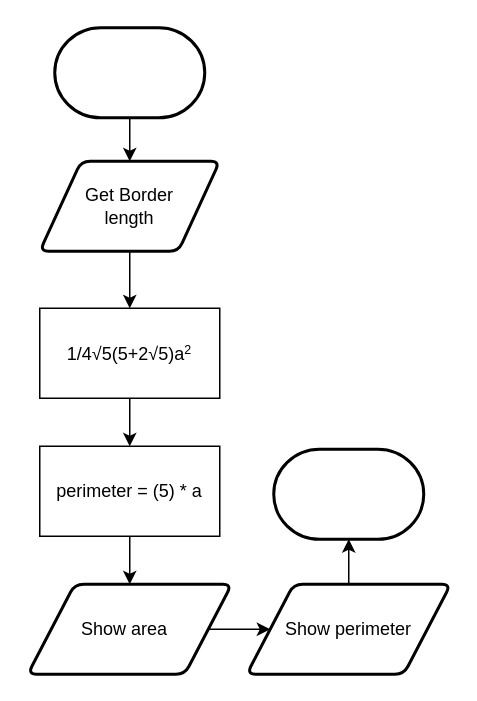
The diagram is 477 pixels wide and 701 high, and some of its shapes have lost their labels. Each missing label, with the box of its shape:
Start: (52, 26, 206, 118)
Stop: (272, 447, 424, 540)
